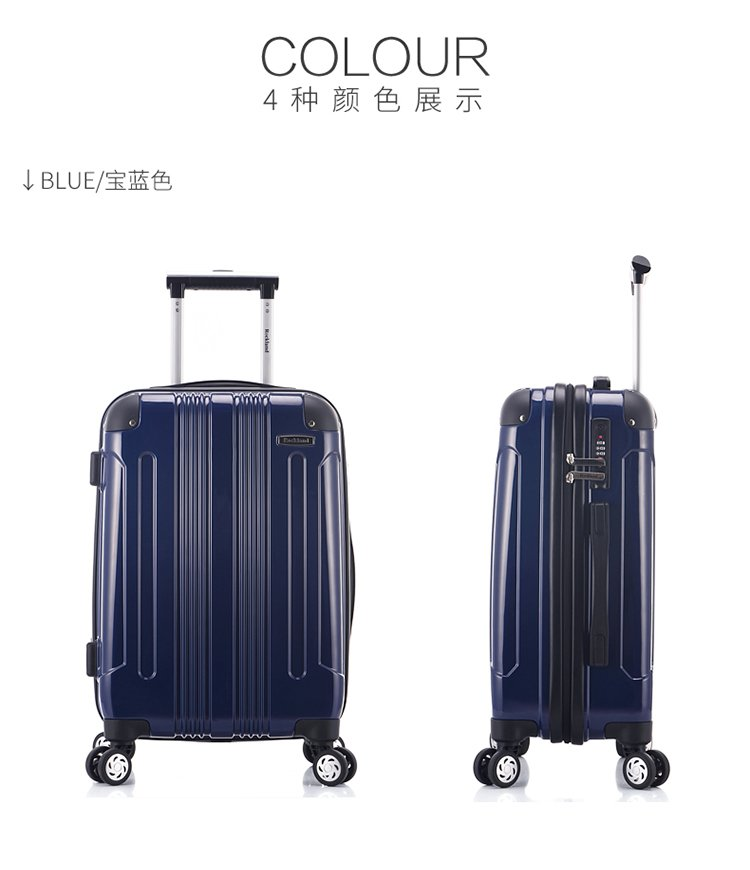luggage: (85, 266, 362, 787), (470, 254, 673, 792)
